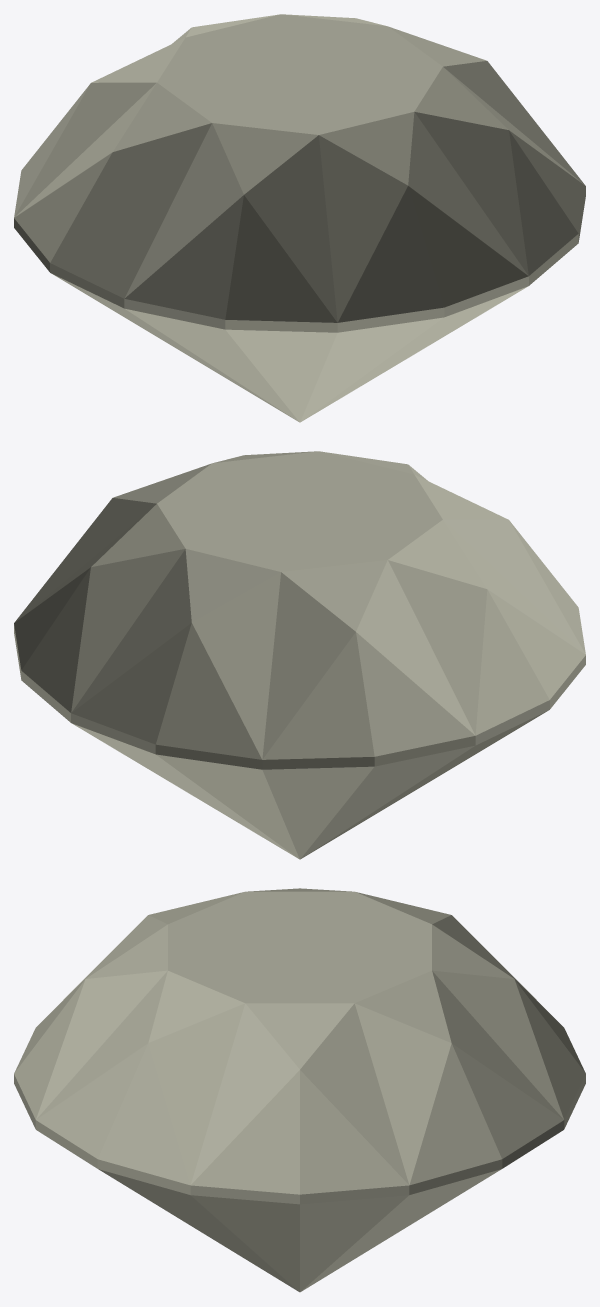
Rendered from icon.ico.obj.
3 views of the same model, one above another, from view 1: azimuth 30°, elevation 25°; view 2: azimuth 150°, elevation 25°; view 3: azimuth 270°, elevation 25° (orthographic).
Size of the model in its own units: 3.93 by 2.61 by 3.93.
